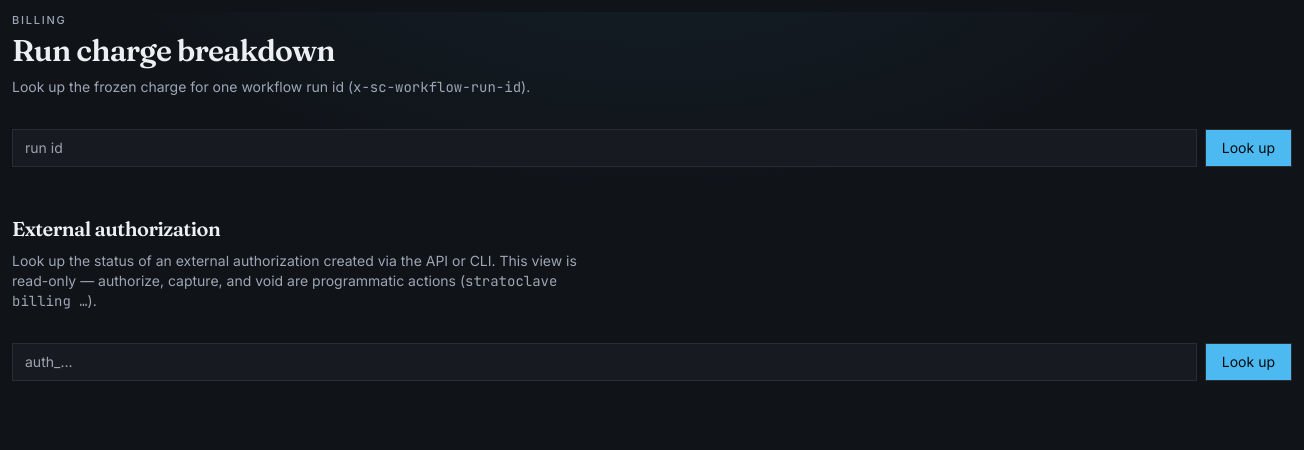
Test case: MeBilling — run lookup error handling › renders the billing-error message on a 404 (run not found)
This screenshot has width=1304, height=450.
Type "run-x" into the field named "workflow run id" at (604, 148), box [12,128,1197,166]
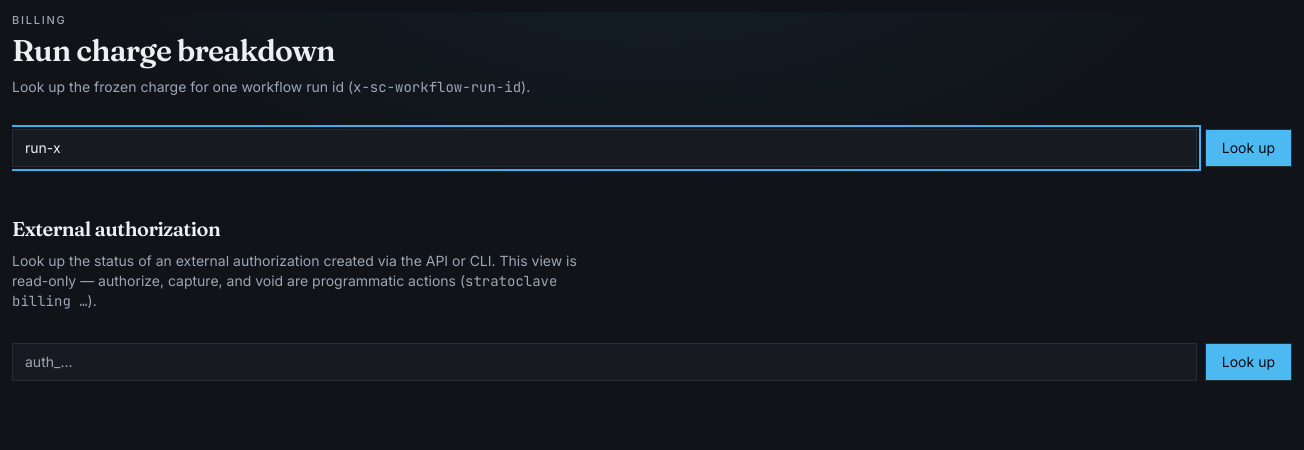
Click the 1st button "Look up" at (1248, 148), box [1205,128,1292,166]
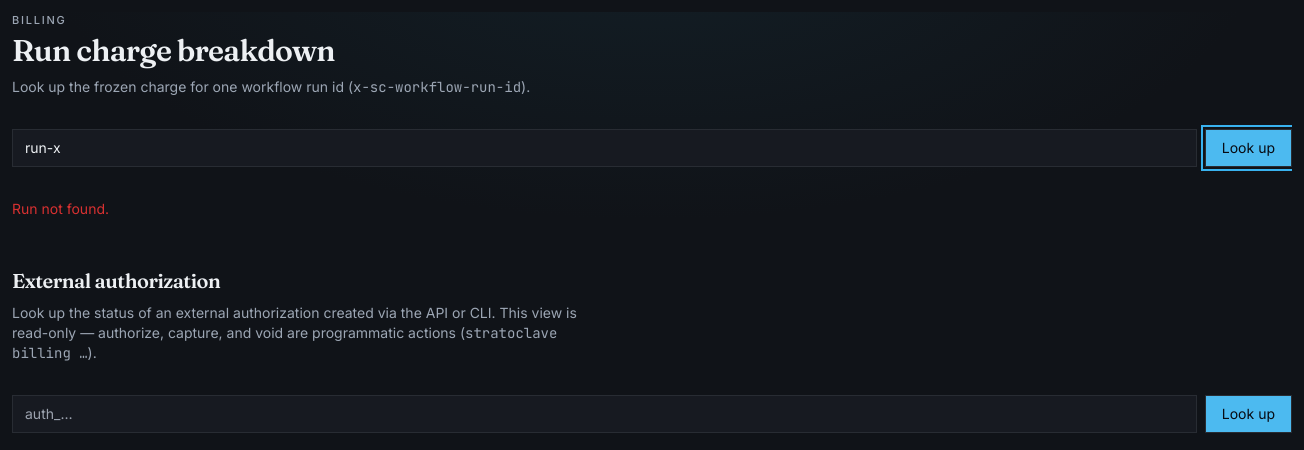
Result: the text "Run not found." is shown at [12,200,109,216]
